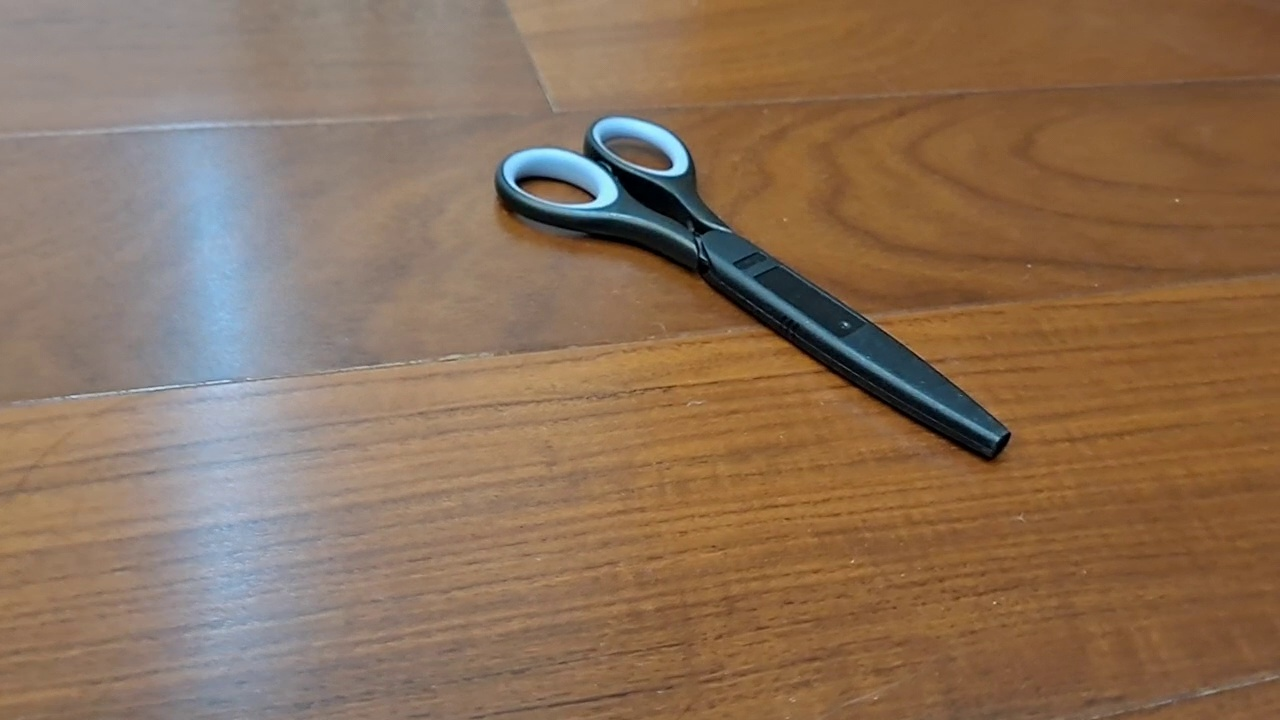scissors: (493, 111, 1012, 462)
